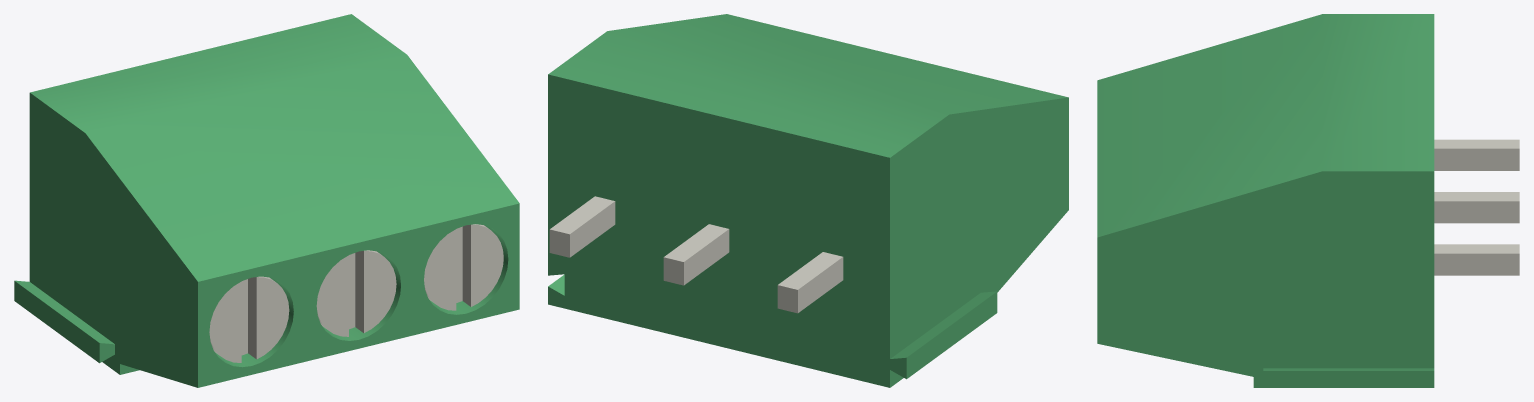
Rendered from terminal-3-p5.08.glb.
3 views of the same model, side by side, from view 1: azimuth 30°, elevation 25°; view 2: azimuth 150°, elevation 25°; view 3: azimuth 270°, elevation 25° (orthographic). The views are drawn at different scales.
Parts seen in each view (by area): view 1: PLASTIC-GREEN-01 (×3), PIN-01; view 2: PLASTIC-GREEN-01, PIN-01; view 3: PLASTIC-GREEN-01, PIN-01.
Part boxes in pixels (x1,y1,x2,y2): PLASTIC-GREEN-01 (×3): (14,14,519,387); PIN-01: (209,224,503,362); PLASTIC-GREEN-01: (548,14,1068,387); PIN-01: (549,196,843,313); PLASTIC-GREEN-01: (1097,14,1434,387); PIN-01: (1434,139,1519,275).
Size of the model in its own units: 15.98 by 9.8 by 17.3.
